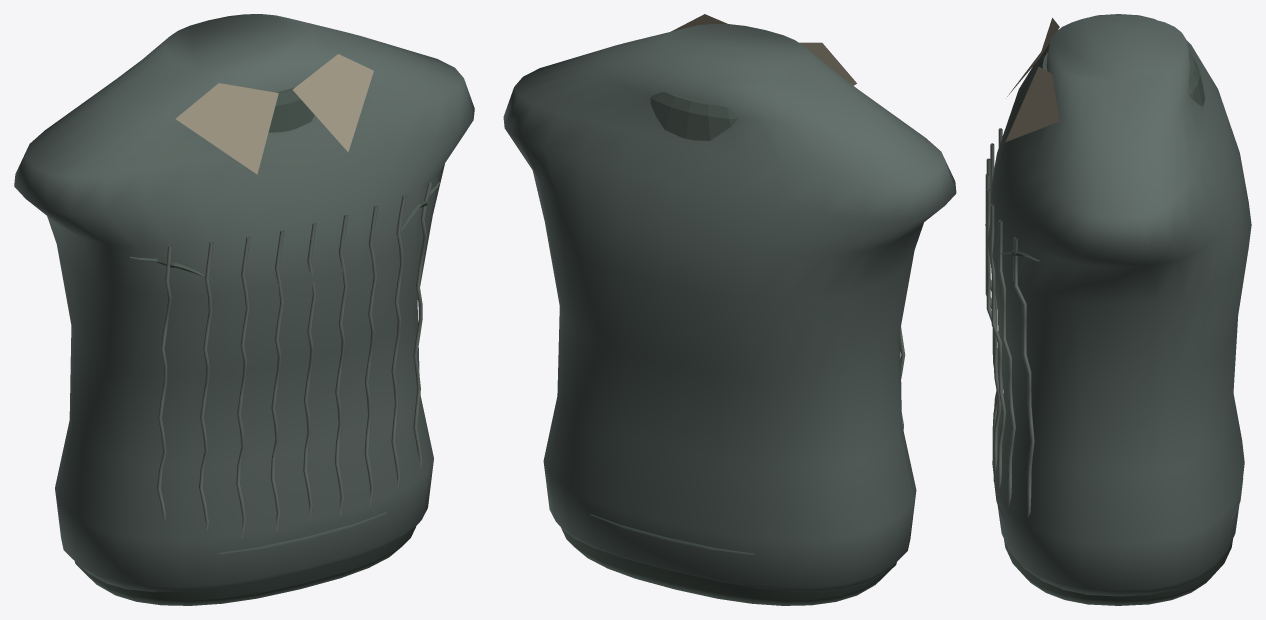
Rendered from NicoJacket.glb.
3 views of the same model, side by side, from view 1: azimuth 30°, elevation 25°; view 2: azimuth 150°, elevation 25°; view 3: azimuth 270°, elevation 25° (orthographic). The views are drawn at different scales.
Visible parts, largest first — view 1: NicoJacket; view 2: NicoJacket; view 3: NicoJacket.
Boxes of the visible parts, x1,y1,x2,y2 form: NicoJacket: [14, 14, 474, 605]; NicoJacket: [503, 14, 956, 605]; NicoJacket: [985, 14, 1251, 605].
Size of the model in its own units: 0.6441 by 0.711 by 0.35.
